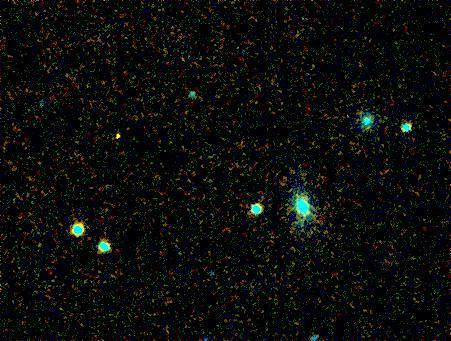star: (104, 122, 134, 152)
